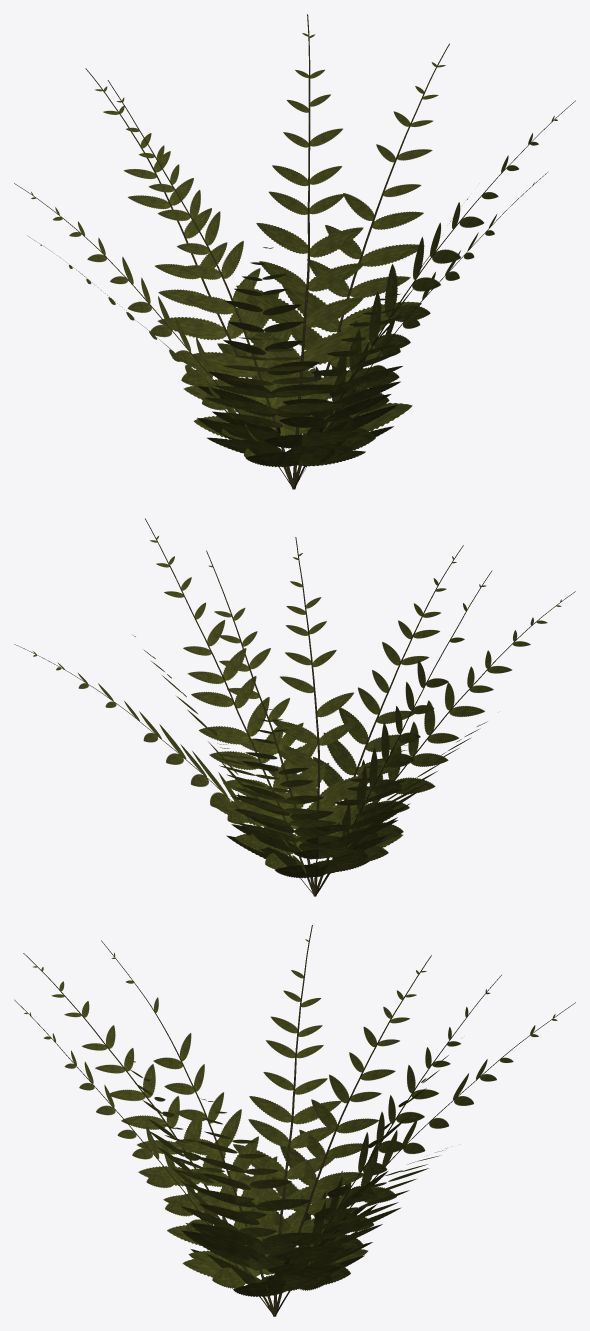
File: bracken_v02_LOD1.glb
The picture shows the model from 3 angles, top to bottom: view 1: azimuth 30°, elevation 25°; view 2: azimuth 150°, elevation 25°; view 3: azimuth 270°, elevation 25°; orthographic projection. The views are drawn at different scales.
Parts seen in each view (by area): view 1: bracken_v02_LOD1; view 2: bracken_v02_LOD1; view 3: bracken_v02_LOD1.
Boxes of the visible parts, x1,y1,x2,y2 form: bracken_v02_LOD1: (14, 14, 575, 489); bracken_v02_LOD1: (14, 518, 575, 896); bracken_v02_LOD1: (14, 925, 575, 1316).
Size of the model in its own units: 2.01 by 1.4 by 2.08.
2 materials, 2 textured.
